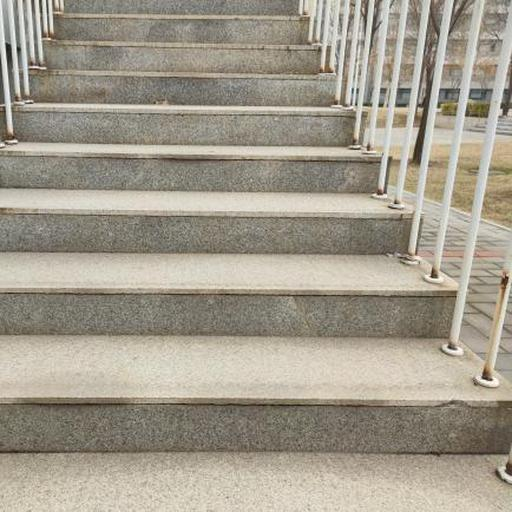Stairs: (0, 0, 512, 454), (2, 453, 512, 512)
